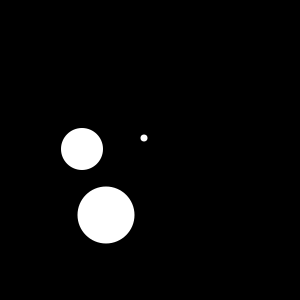rectangle: (77, 186, 134, 244), (61, 128, 103, 170), (140, 134, 148, 142)
